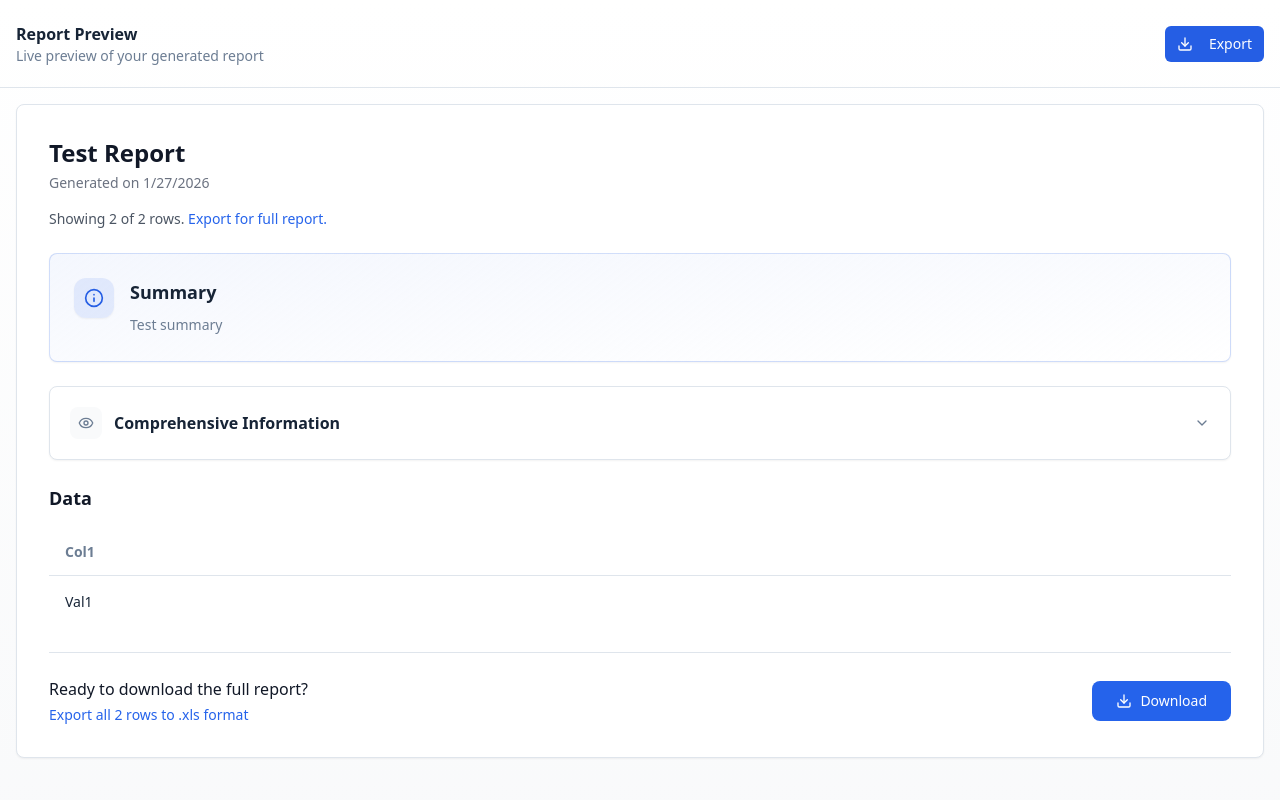
Test: ReportPreview › renders comprehensive information when available
The image size is (1280, 800).
Click the button "Comprehensive Information" at (86, 423), box 70,407 -> 1210,439
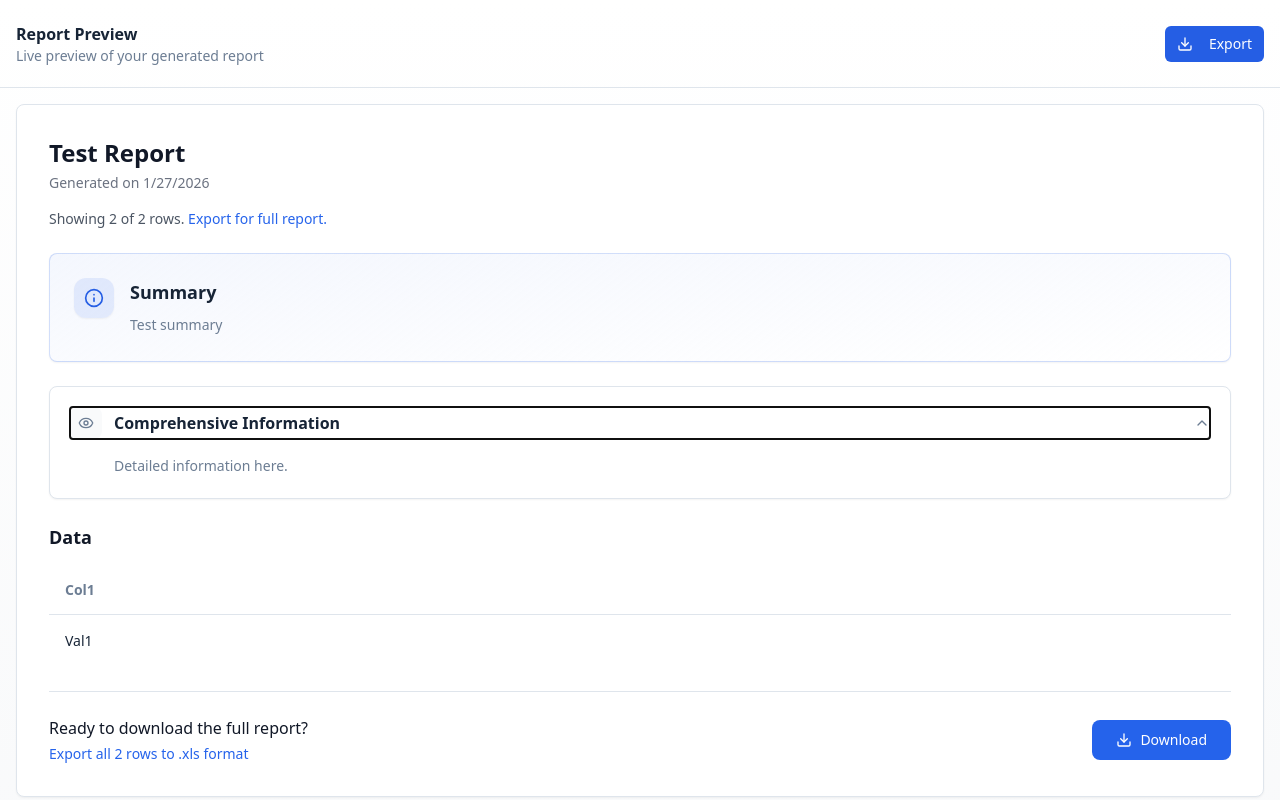
Check: the text "Detailed information here." is shown, box 114,456 -> 288,475
